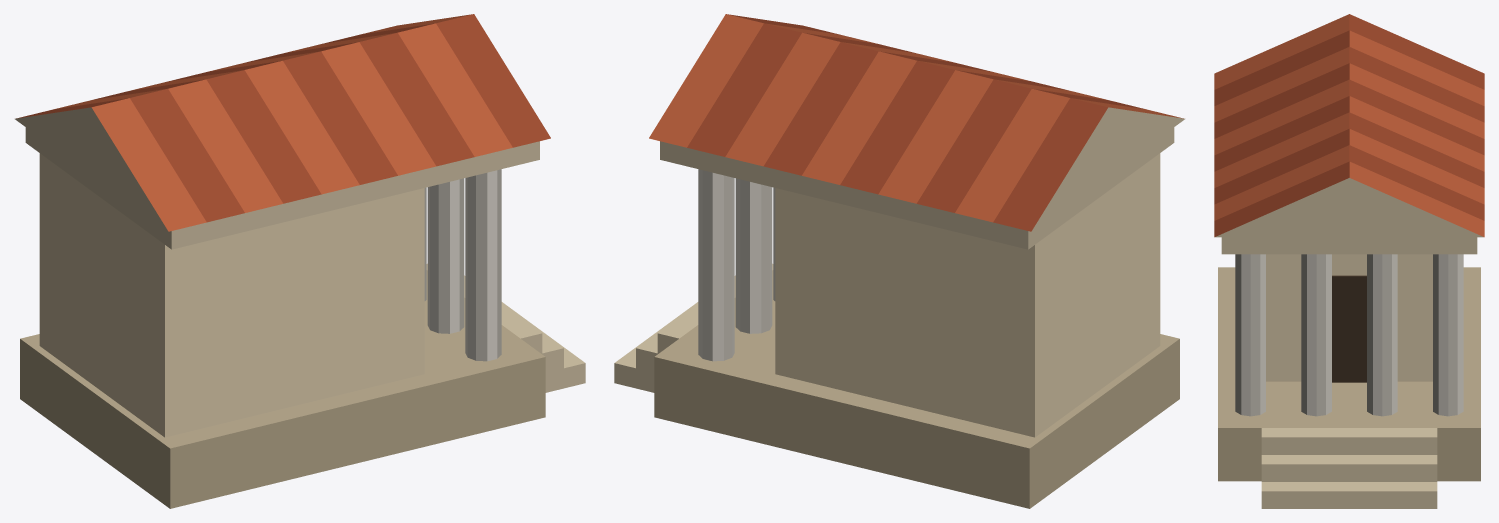
Rendered from temple.glb.
The picture shows the model from 3 angles, left to right: view 1: azimuth 30°, elevation 25°; view 2: azimuth 150°, elevation 25°; view 3: azimuth 270°, elevation 25°; orthographic projection. The views are drawn at different scales.
Visible parts, largest first — view 1: temple2; view 2: temple2; view 3: temple2.
Boxes of the visible parts, <box> form: temple2: <box>15,14,585,508</box>; temple2: <box>614,14,1184,508</box>; temple2: <box>1214,14,1484,508</box>.
Size of the model in its own units: 6.15 by 4.6 by 3.7.
